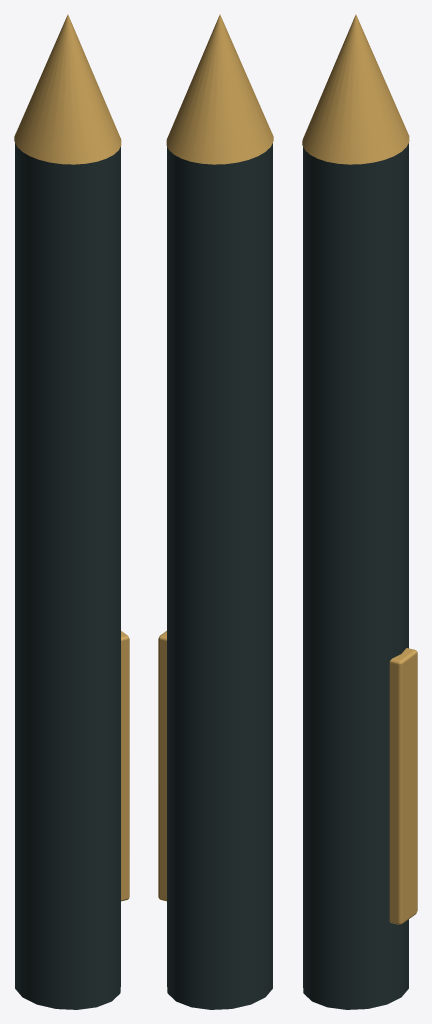
The model's file is wp-stylo-plume.glb.
The picture shows the model from 3 angles, left to right: view 1: azimuth 30°, elevation 25°; view 2: azimuth 150°, elevation 25°; view 3: azimuth 330°, elevation 25°; orthographic projection.
Parts seen in each view (by area): view 1: wp-stylo-plume; view 2: wp-stylo-plume; view 3: wp-stylo-plume.
Part boxes in pixels (x1,y1,x2,y2): wp-stylo-plume: (14, 14, 129, 1009); wp-stylo-plume: (158, 14, 273, 1009); wp-stylo-plume: (302, 14, 417, 1009).
Bounding box in the file's own units: 0.015 × 0.14 × 0.015.
